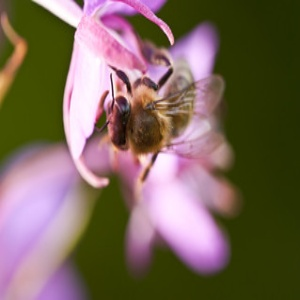bee: (102, 62, 228, 180)
